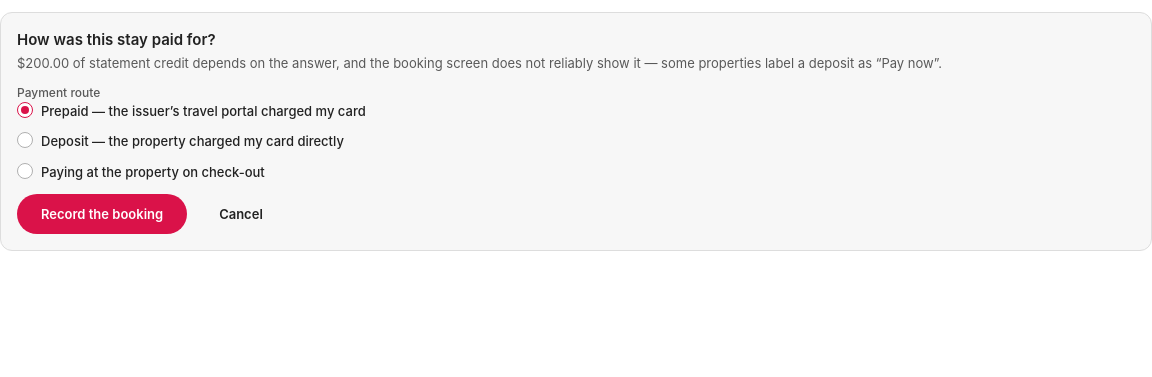
Scenario: PaymentRoutePrompt — the credit-forfeiting routes › warns when the stay will be settled at the property
The image size is (1152, 377).
Click the radio button named "paying at the property" next to "Paying at the property on check-out". click: (25, 171)
box: [17,163,33,179]
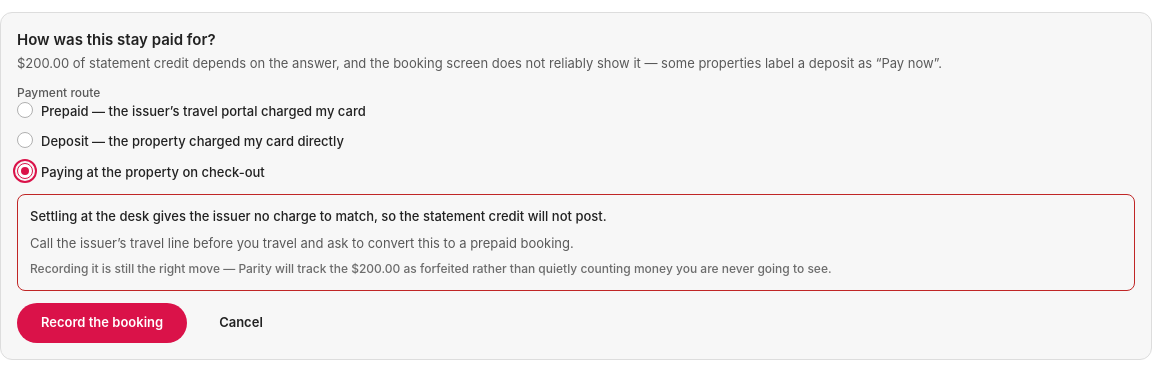
Expected: the message shows "will not post", [30,208,607,224]
